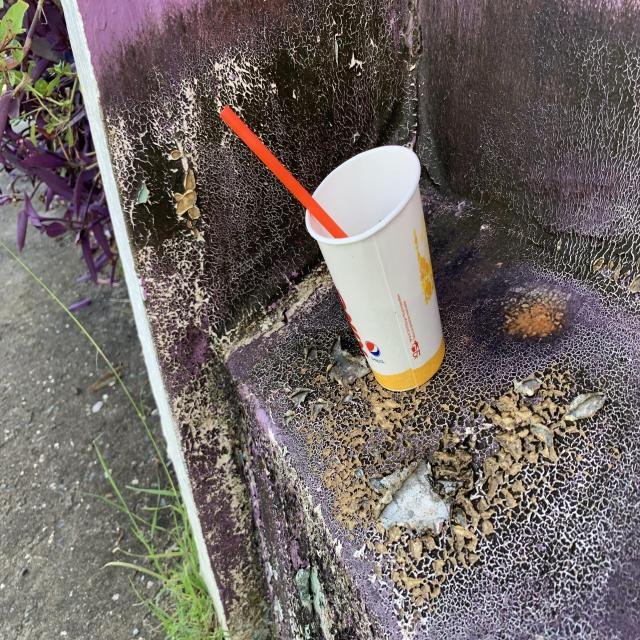litter: (305, 145, 445, 391), (220, 104, 349, 238)
